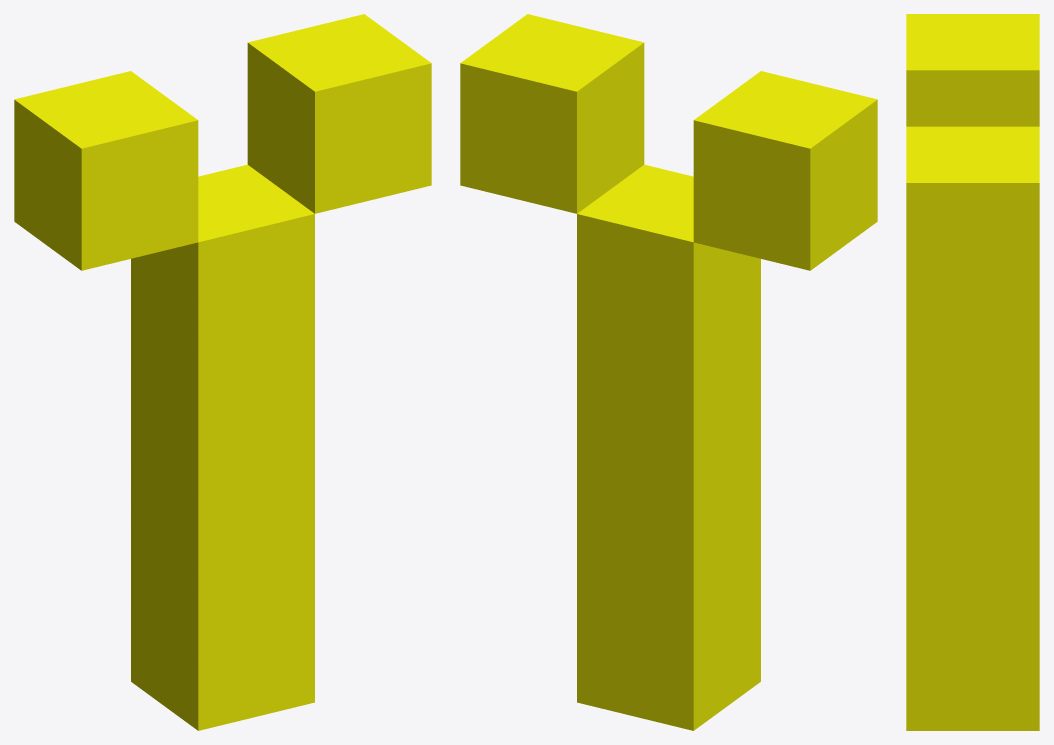
File: voxel-farm-young-plant.glb
3 renders of one model, left to right at view 1: azimuth 30°, elevation 25°; view 2: azimuth 150°, elevation 25°; view 3: azimuth 270°, elevation 25°, orthographic.
Parts seen in each view (by area): view 1: VS_Farm_Plant_Young; view 2: VS_Farm_Plant_Young; view 3: VS_Farm_Plant_Young.
Part boxes in pixels (x1=…): VS_Farm_Plant_Young: x1=14, y1=14, x2=431, y2=730; VS_Farm_Plant_Young: x1=460, y1=14, x2=877, y2=730; VS_Farm_Plant_Young: x1=906, y1=14, x2=1039, y2=730.
Bounding box in the file's own units: 0.3 × 0.5 × 0.1.
